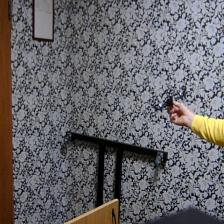drone: (148, 85, 189, 112)
